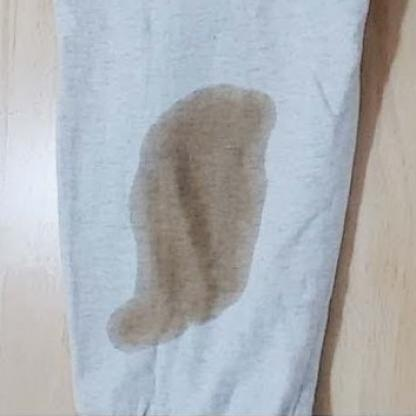coffee: (132, 98, 261, 308)
